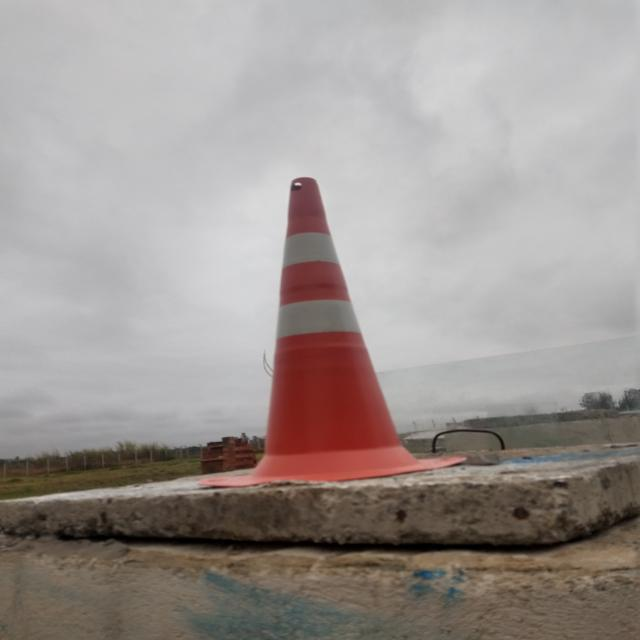Cone: (216, 172, 457, 492)
